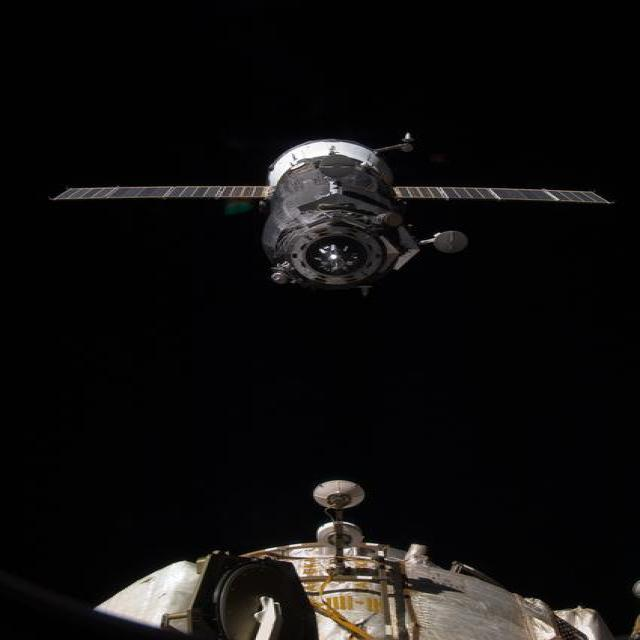medium_debris: (41, 122, 591, 316), (63, 483, 619, 640)
